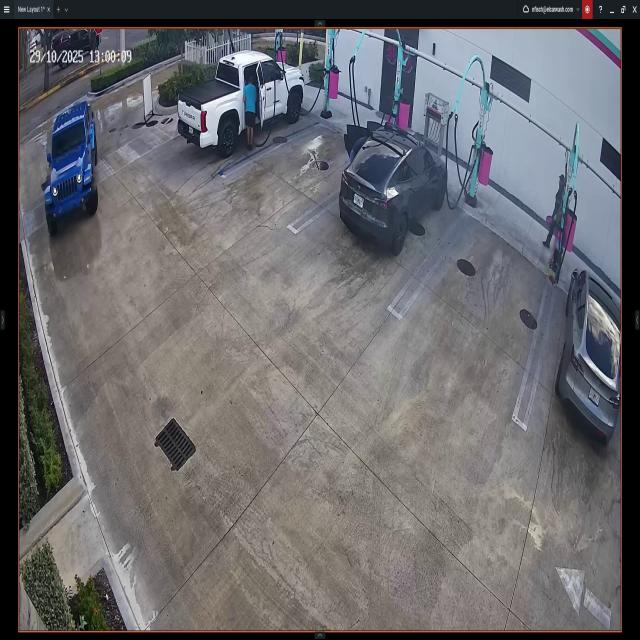Car: (339, 125, 448, 252), (177, 49, 304, 156), (557, 266, 620, 445), (44, 101, 99, 233)
